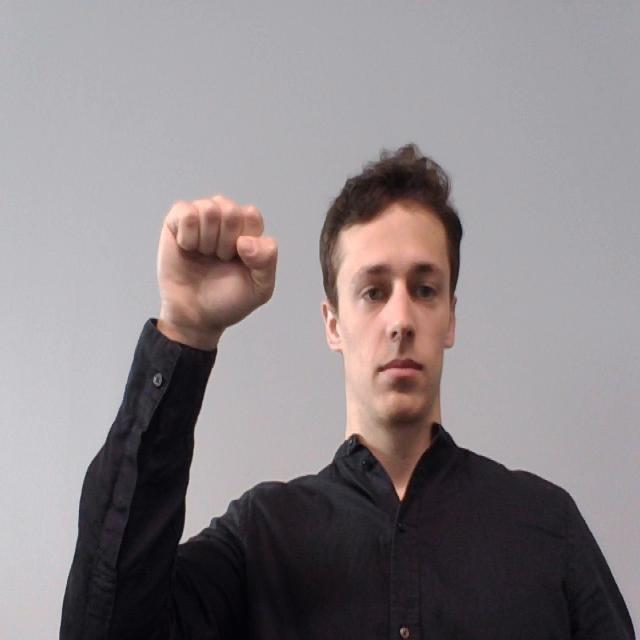stop: (154, 184, 281, 340)
